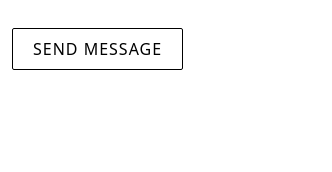
Test: StartChatButton › starts a conversation and opens it
The width and height of the screenshot is (332, 172).
Click the button "Send message".
click(98, 49)  # box [12, 28, 183, 70]
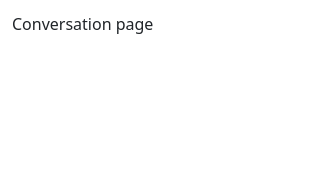
Now the text "Conversation page" is shown, box [12, 13, 153, 35]
